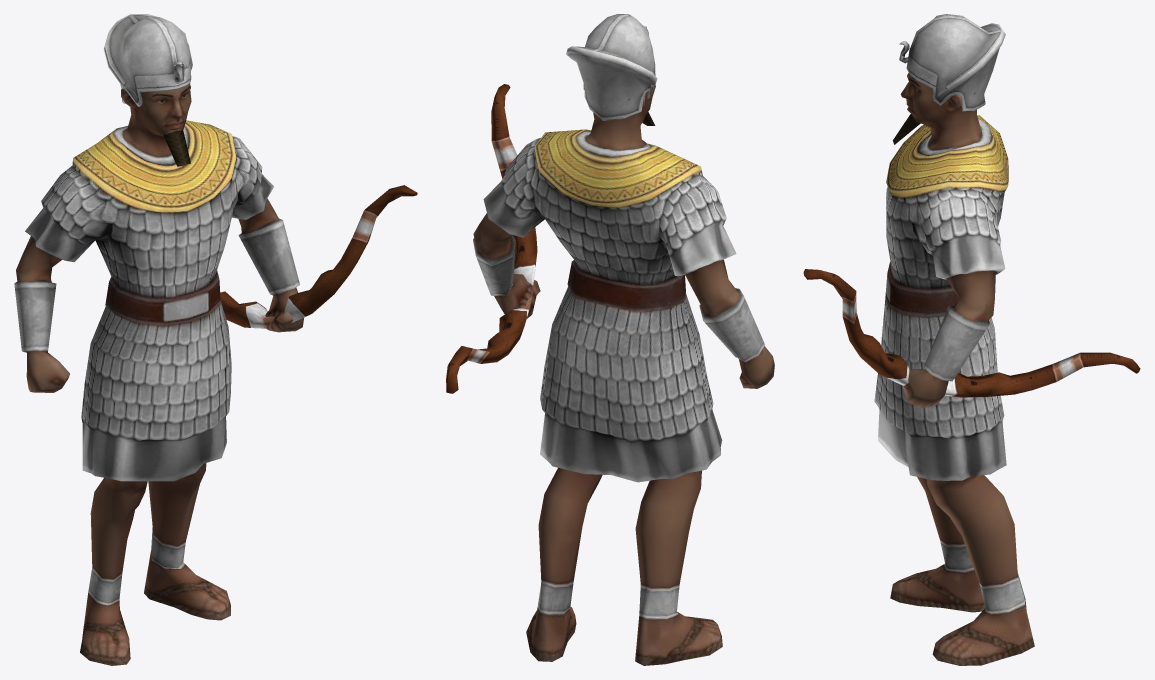
Rendered from rider-championchariotarchers.glb.
3 views of the same model, side by side, from view 1: azimuth 30°, elevation 25°; view 2: azimuth 150°, elevation 25°; view 3: azimuth 270°, elevation 25° (orthographic). The views are drawn at different scales.
Bounding box in the file's own units: 1.2 × 2.14 × 1.07.
Materials: 3 (3 with a texture image).
